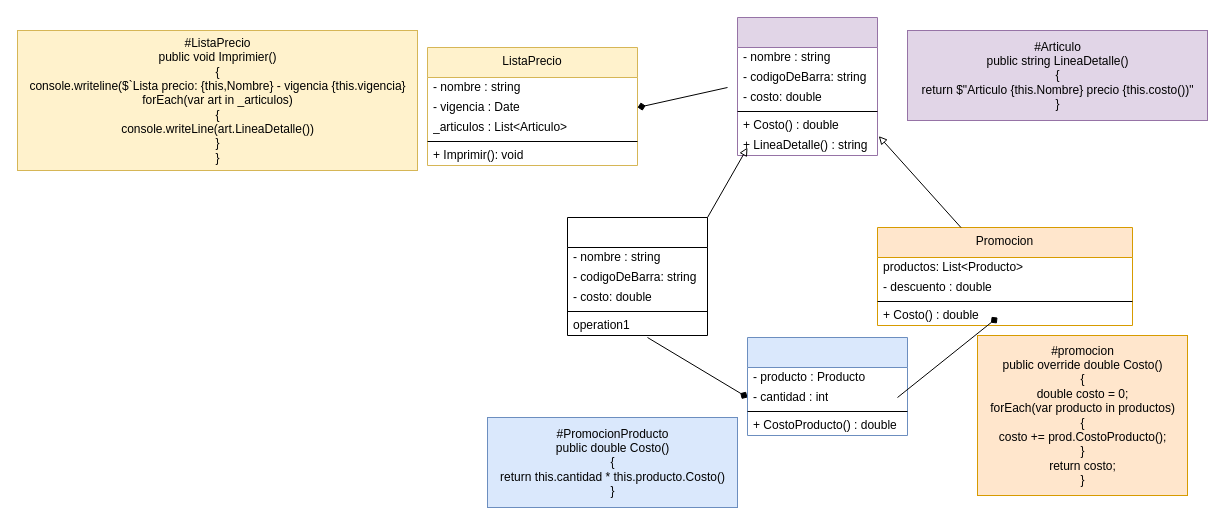
Some shapes in this 1225 by 525 pixel diagram are drawn without their labels. Each missing label, with the box of its shape:
Articulo: (736, 16, 878, 156)
Producto: (566, 216, 708, 336)
ProductoPromocion: (746, 336, 908, 436)
